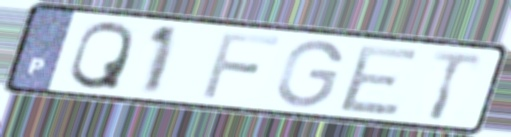1: (140, 24, 184, 96)
E: (334, 43, 424, 117)
F: (198, 30, 285, 101)
G: (273, 38, 347, 111)
Q: (65, 18, 138, 92)
T: (427, 48, 487, 123)
